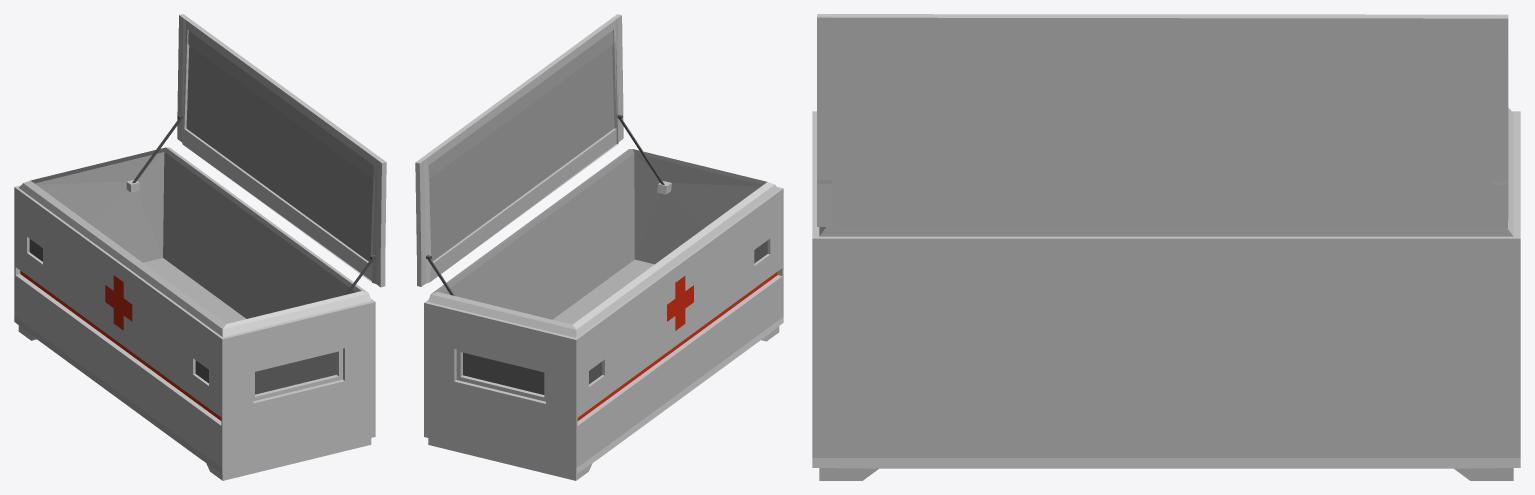
The model's file is ContenedorDeCajas.fbx.
3 renders of one model, left to right at view 1: azimuth 30°, elevation 25°; view 2: azimuth 150°, elevation 25°; view 3: azimuth 270°, elevation 25°, orthographic. The views are drawn at different scales.
Parts seen in each view (by area): view 1: Cube.004; view 2: Cube.004; view 3: Cube.004.
Boxes of the visible parts, <box> form: Cube.004: <box>14,14,386,480</box>; Cube.004: <box>415,14,783,480</box>; Cube.004: <box>812,14,1520,480</box>.
Bounding box in the file's own units: 125 × 200 × 270.
Materials: 1 (1 with a texture image).
